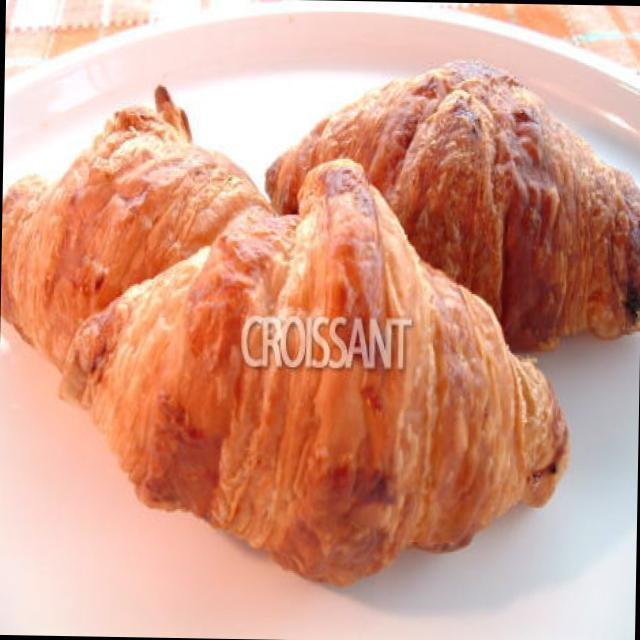Croissant: (41, 152, 604, 589)
